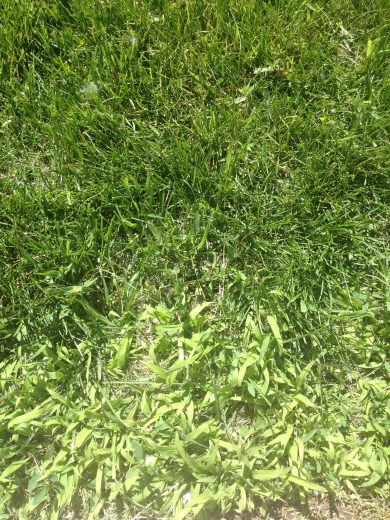crabgrass: (16, 312, 354, 515)
